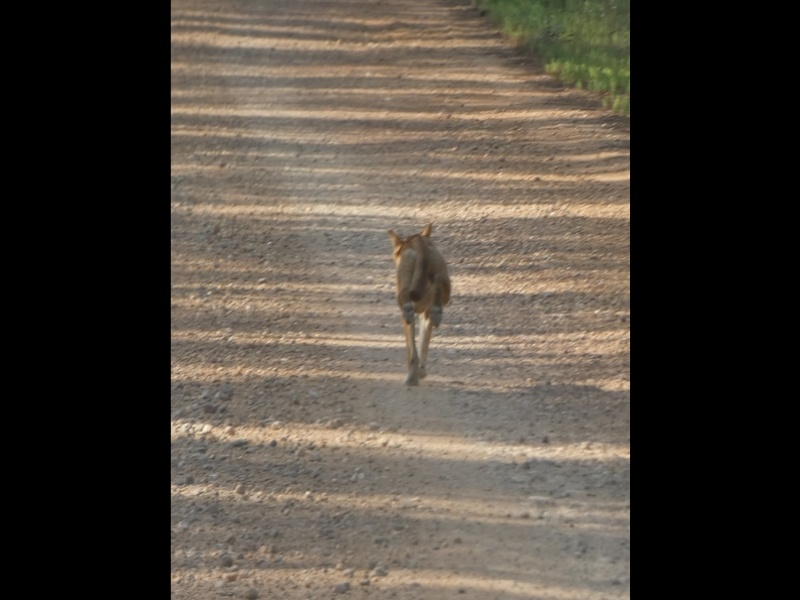dog: (381, 216, 453, 394)
